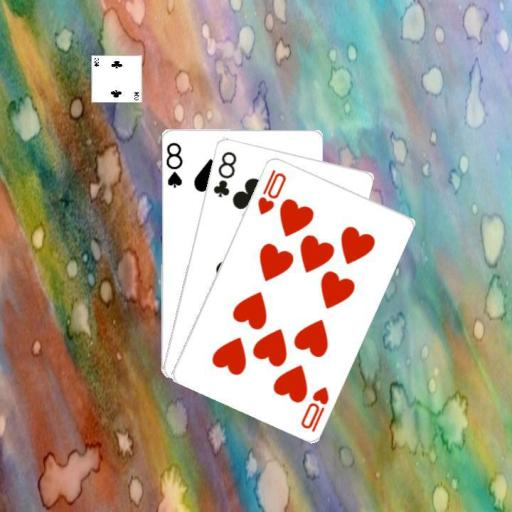10H: (254, 166, 288, 216), (297, 383, 331, 433)
8C: (210, 148, 238, 199)
8S: (164, 139, 184, 189)
